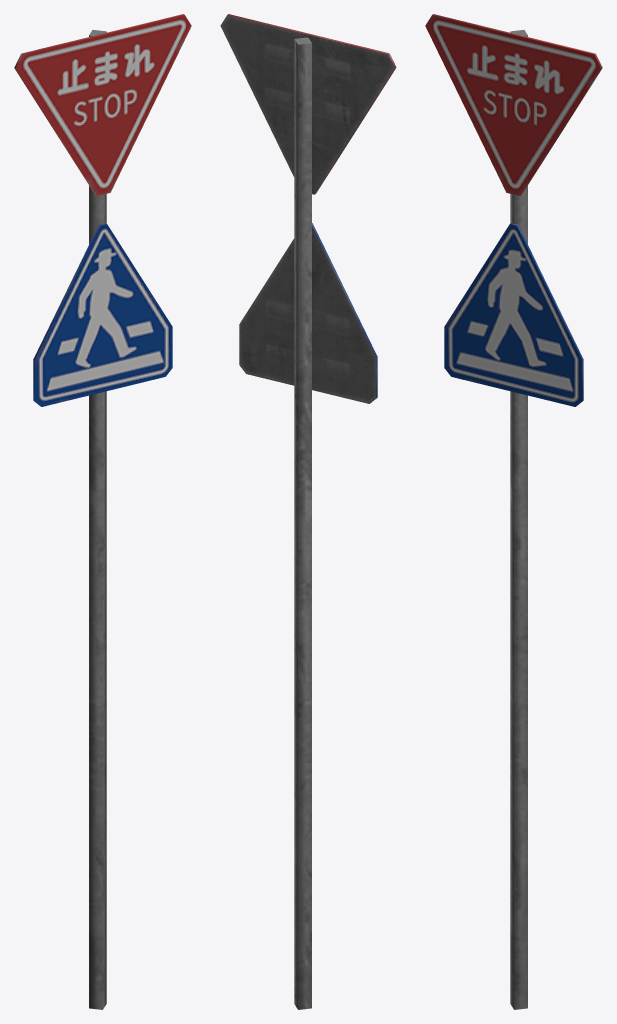
The model's file is jctlowStreetSignA.fbx.
The picture shows the model from 3 angles, left to right: view 1: azimuth 30°, elevation 25°; view 2: azimuth 150°, elevation 25°; view 3: azimuth 330°, elevation 25°; orthographic projection.
Visible parts, largest first — view 1: jctlowStreetSignA; view 2: jctlowStreetSignA; view 3: jctlowStreetSignA.
Part boxes in pixels (x1=…): jctlowStreetSignA: x1=14, y1=14, x2=191, y2=1009; jctlowStreetSignA: x1=220, y1=14, x2=396, y2=1009; jctlowStreetSignA: x1=425, y1=14, x2=602, y2=1009.
Size of the model in its own units: 76.27 by 404 by 8.3.
1 material, 1 textured.
